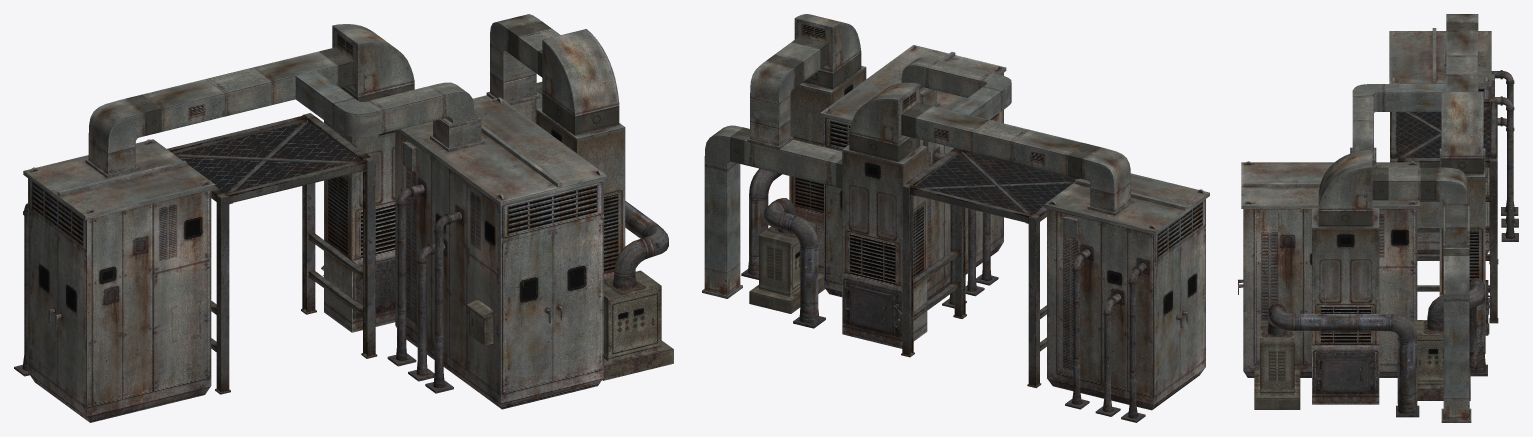
File: sm46_521_g1battleparts02a.fbx
3 views of the same model, side by side, from view 1: azimuth 30°, elevation 25°; view 2: azimuth 150°, elevation 25°; view 3: azimuth 270°, elevation 25° (orthographic). The views are drawn at different scales.
Parts seen in each view (by area): view 1: LOD_1_Group_0_Sub_1__st2_police1fRightBoiler01, LOD_1_Group_0_Sub_3__st3_sewageSteel013, LOD_1_Group_0_Sub_2__st2_police1fRightFrame01_MAT__Env_Alpha; view 2: LOD_1_Group_0_Sub_1__st2_police1fRightBoiler01, LOD_1_Group_0_Sub_3__st3_sewageSteel013, LOD_1_Group_0_Sub_2__st2_police1fRightFrame01_MAT__Env_Alpha; view 3: LOD_1_Group_0_Sub_1__st2_police1fRightBoiler01, LOD_1_Group_0_Sub_3__st3_sewageSteel013, LOD_1_Group_0_Sub_2__st2_police1fRightFrame01_MAT__Env_Alpha.
Part boxes in pixels (x1,y1,x2,y2): LOD_1_Group_0_Sub_1__st2_police1fRightBoiler01: (14,14,673,422); LOD_1_Group_0_Sub_3__st3_sewageSteel013: (167,113,377,394); LOD_1_Group_0_Sub_2__st2_police1fRightFrame01_MAT__Env_Alpha: (174,122,360,193); LOD_1_Group_0_Sub_1__st2_police1fRightBoiler01: (702,14,1209,422); LOD_1_Group_0_Sub_3__st3_sewageSteel013: (901,148,1079,388); LOD_1_Group_0_Sub_2__st2_police1fRightFrame01_MAT__Env_Alpha: (915,153,1074,214); LOD_1_Group_0_Sub_1__st2_police1fRightBoiler01: (1238,14,1518,422); LOD_1_Group_0_Sub_3__st3_sewageSteel013: (1390,99,1498,323); LOD_1_Group_0_Sub_2__st2_police1fRightFrame01_MAT__Env_Alpha: (1396,105,1491,157).
Bounding box in the file's own units: 681 × 345 × 371.
